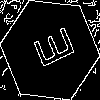E: (25, 25, 76, 74)
